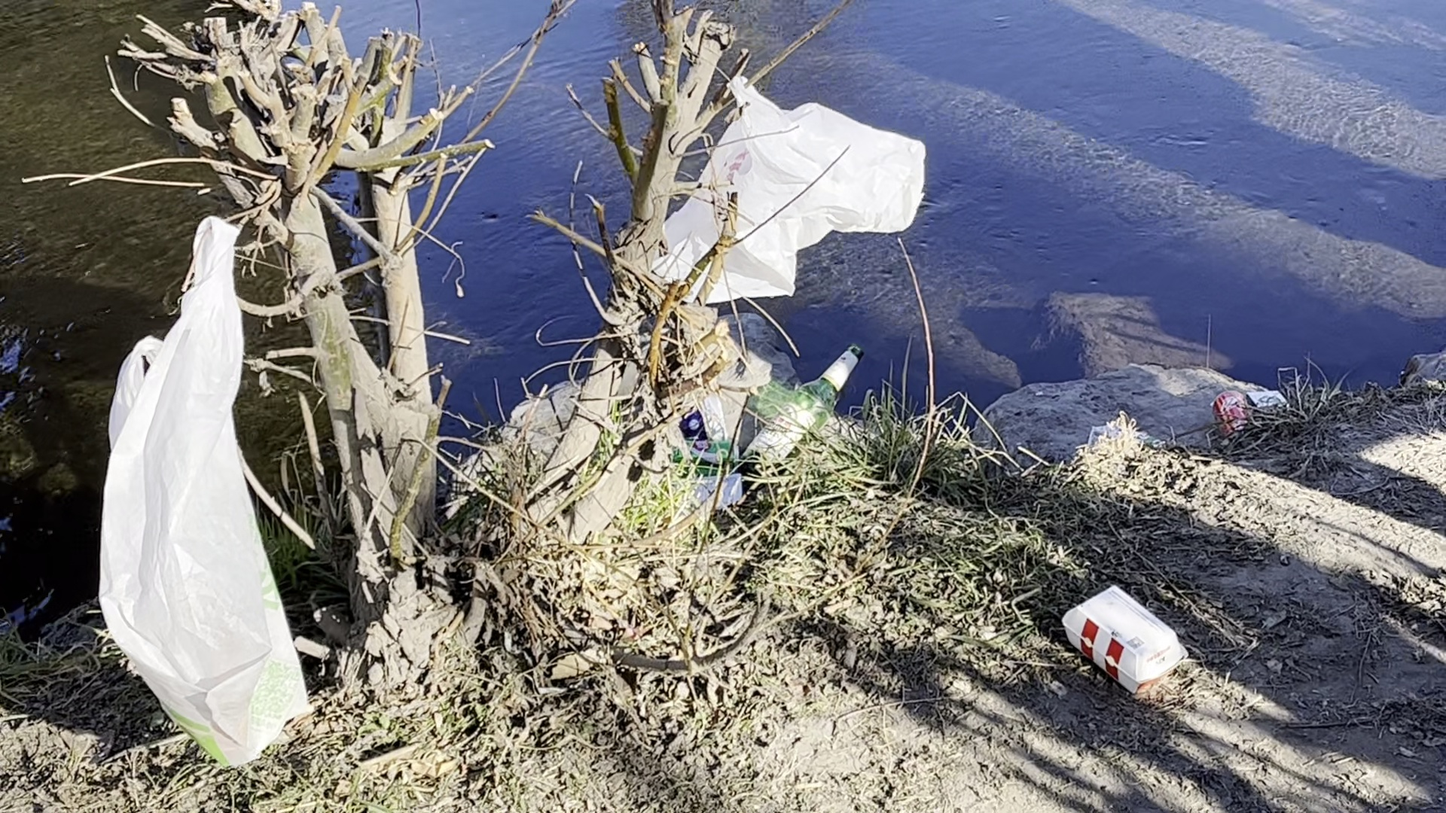floating_object: (97, 215, 310, 767), (652, 76, 925, 303), (743, 343, 865, 467), (1062, 586, 1187, 695), (1212, 389, 1245, 434), (1246, 391, 1290, 408)
